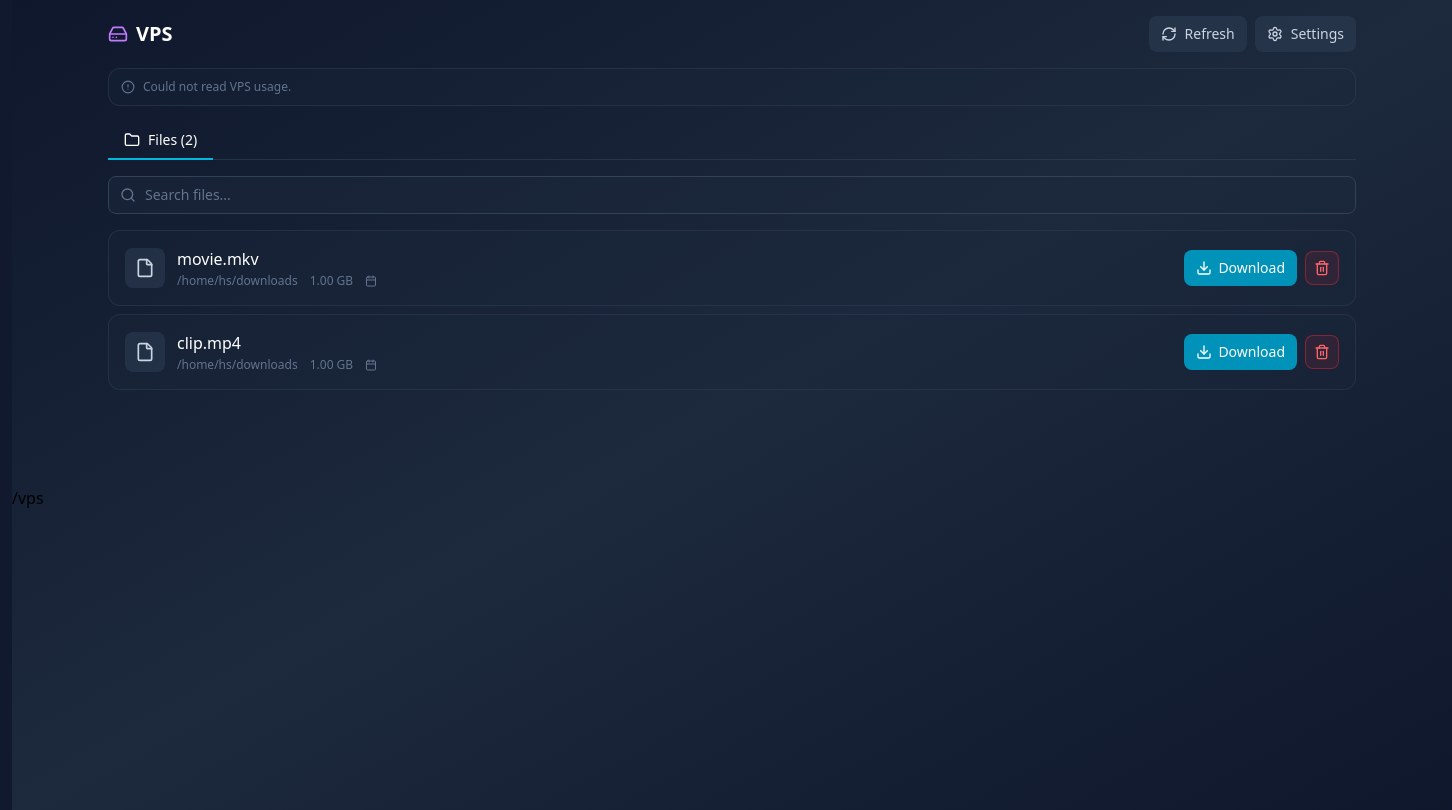
Scenario: VpsPage - files › search narrows by name and says when nothing matches
This screenshot has width=1452, height=810.
Expected: the heading titled "movie.mkv" is shown, [177,248,258,270]
Type "CLIP" into the field with placeholder "Search files..." at [732, 195], box [108,176,1356,214]
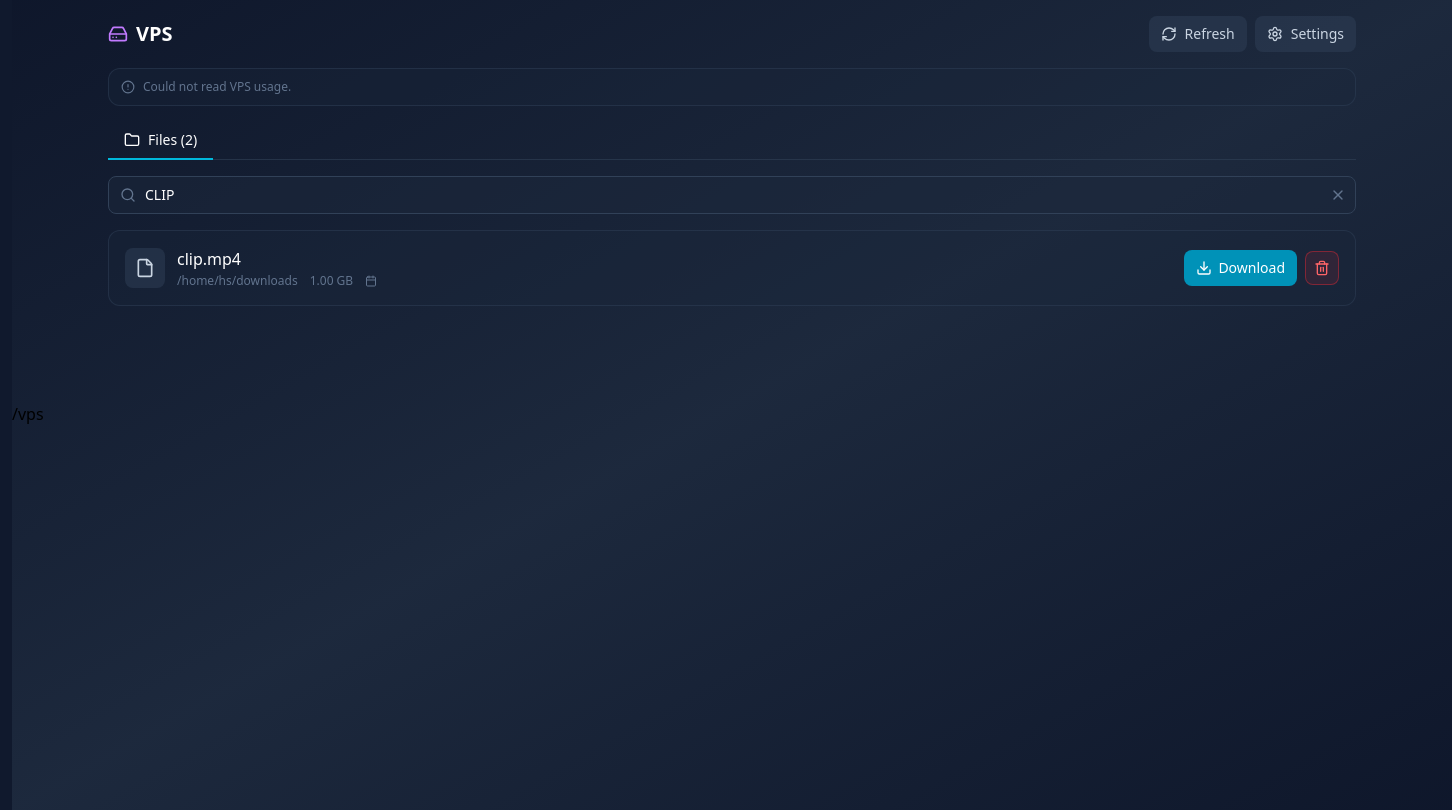
Expected: the heading titled "clip.mp4" is shown, [177,248,241,270]
Expected: the heading titled "movie.mkv" is gone
Replace the text in the field with placeholder "Search files..." with "zzz" at [732, 195], box [108,176,1356,214]
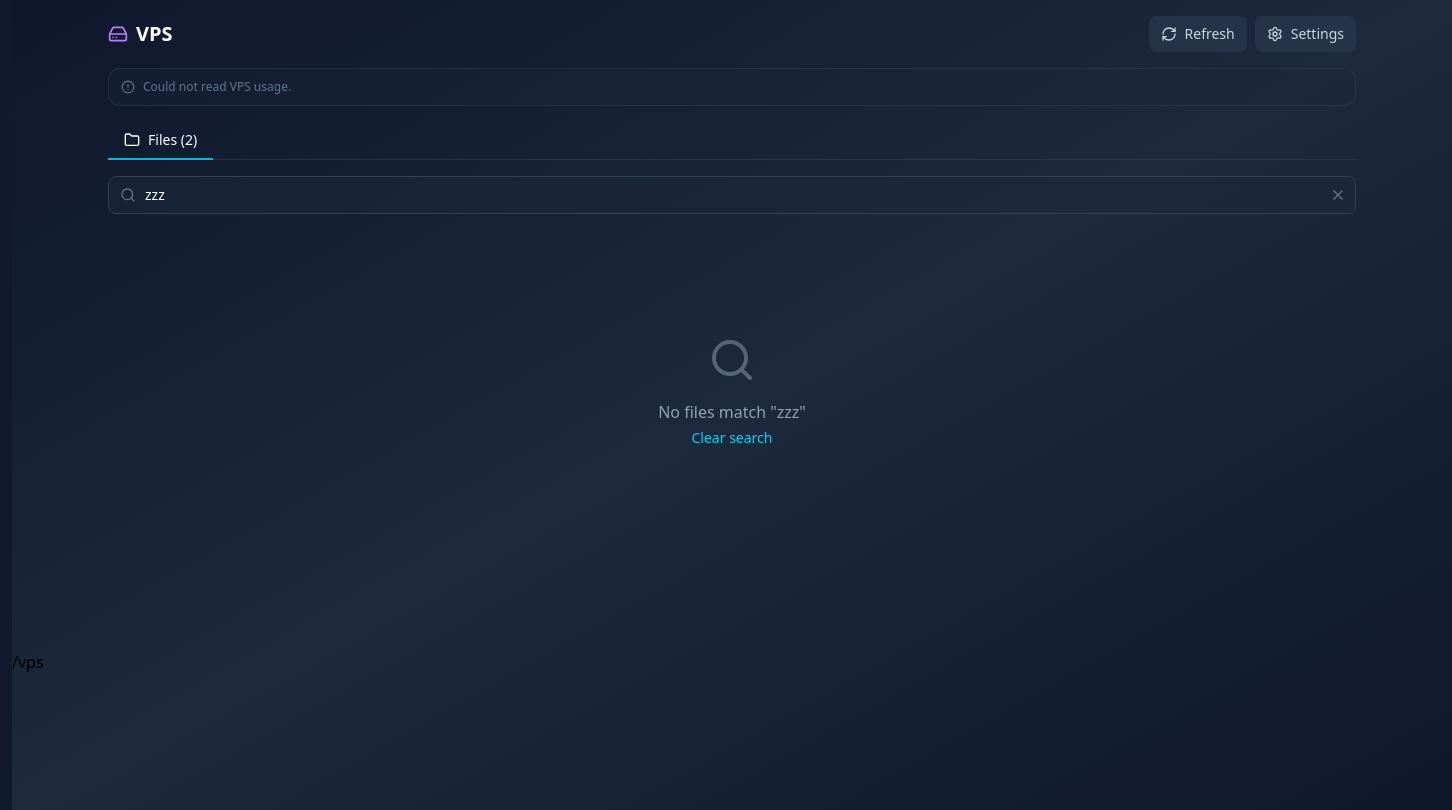
Expected: the text "No files match \"zzz\"" is shown, [658,400,806,424]
Click the button "Clear search" at [732, 438], box [692,428,772,448]
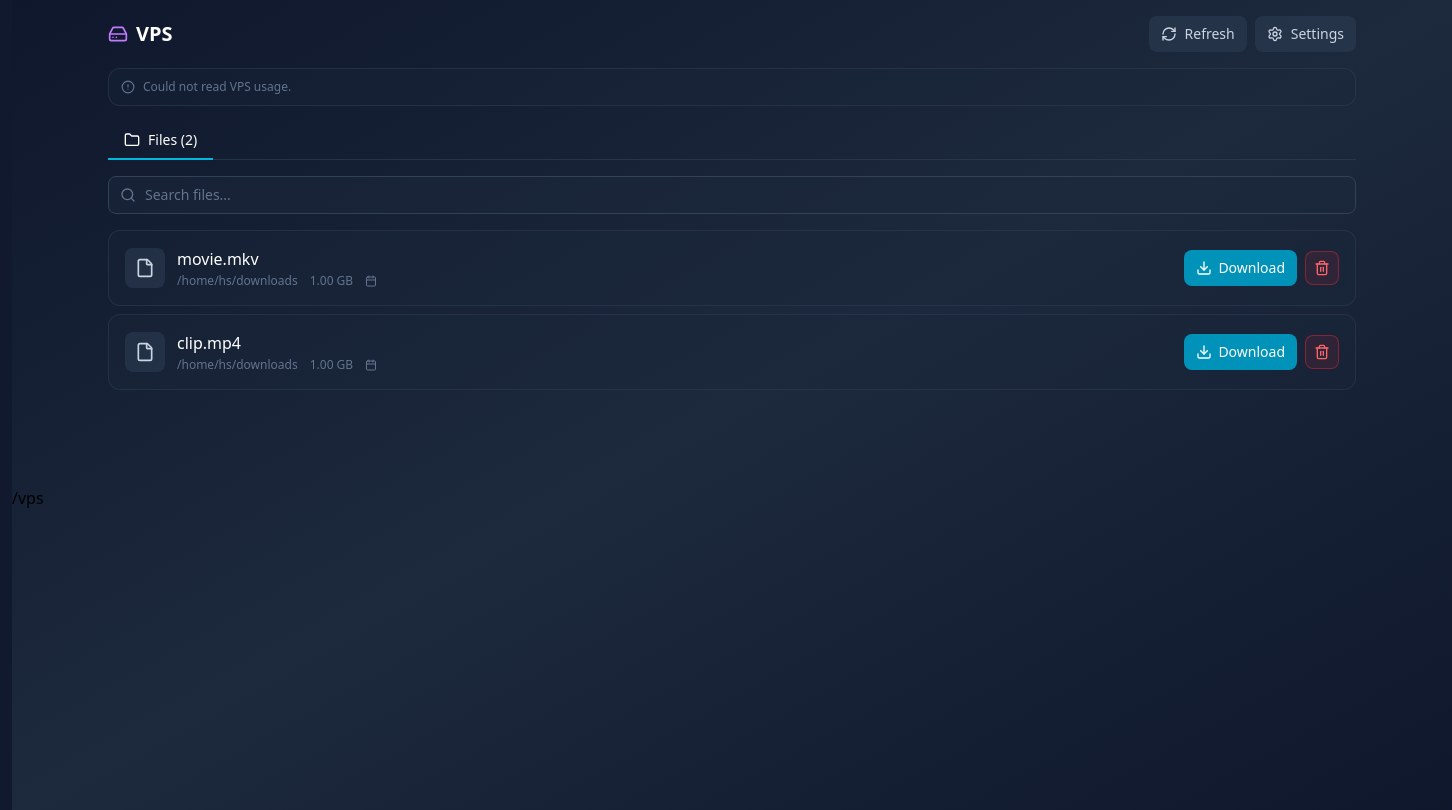
Expected: the heading titled "movie.mkv" is shown, [177,248,258,270]
Type "m" into the field with placeholder "Search files..." at [732, 195], box [108,176,1356,214]
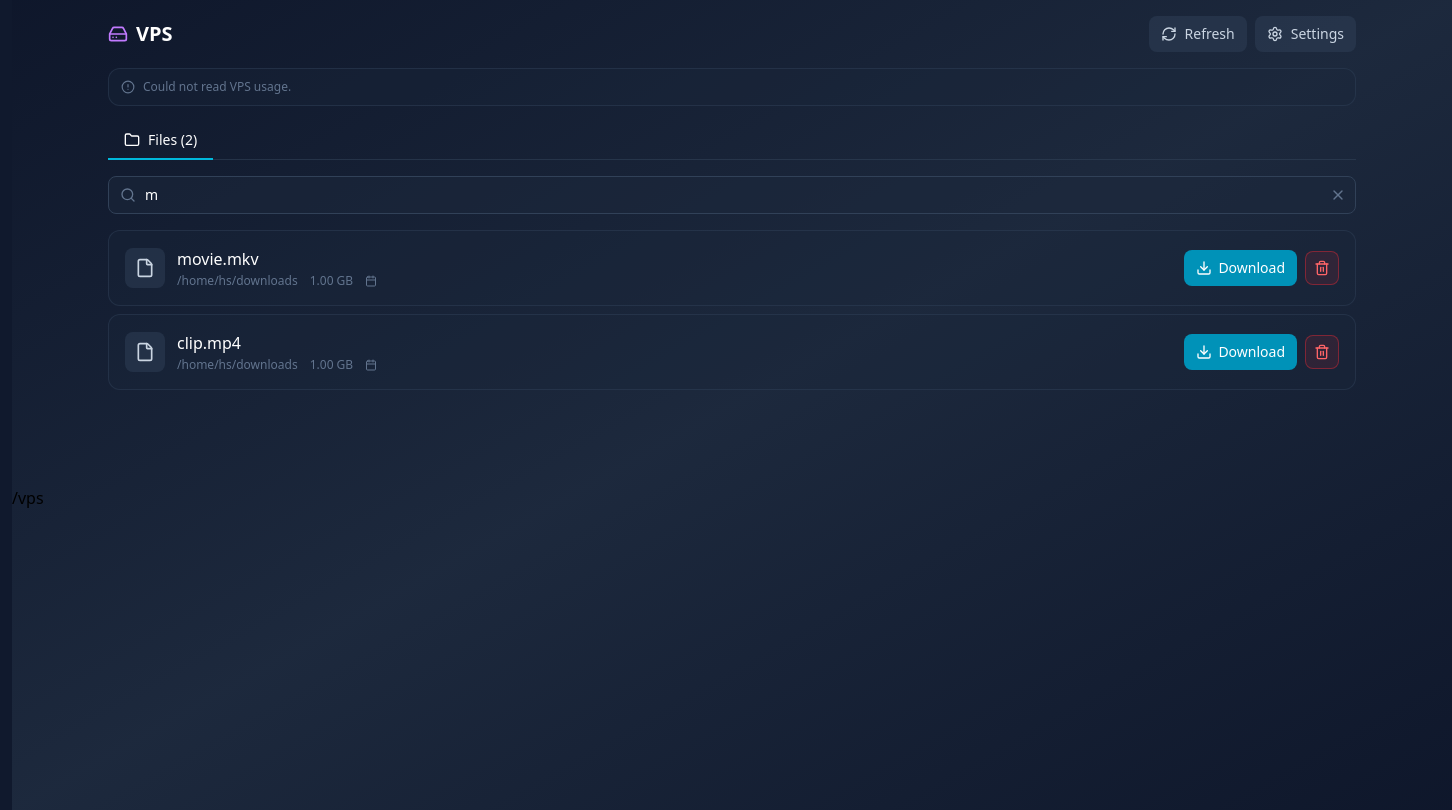
Click the button titled "Clear search" at [1338, 195], box [1330,187,1346,203]
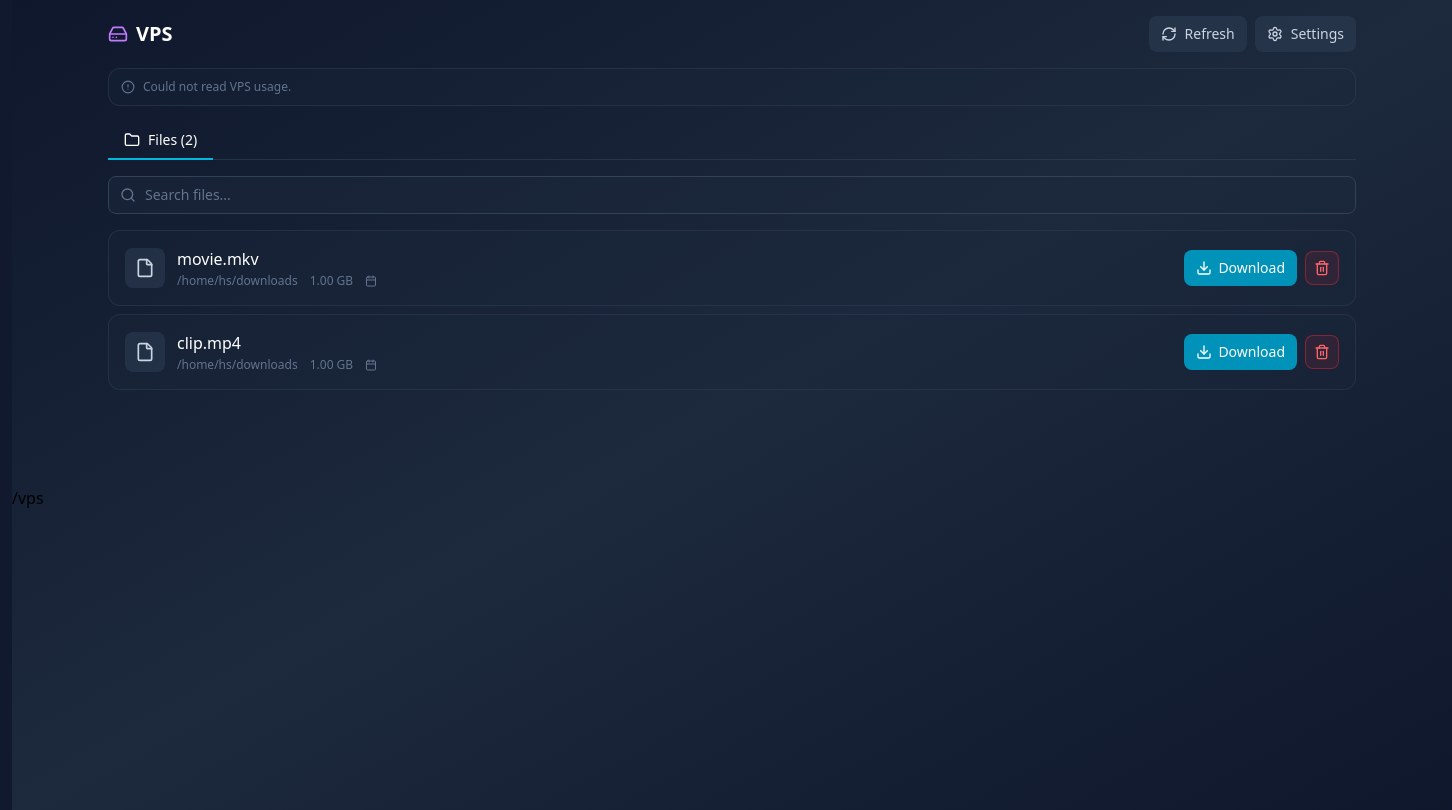
Expected: the field with placeholder "Search files..." is empty, [108,176,1356,214]
